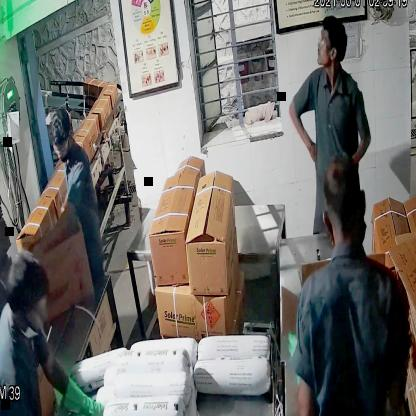goggles: (48, 134, 76, 161), (314, 30, 338, 57)
